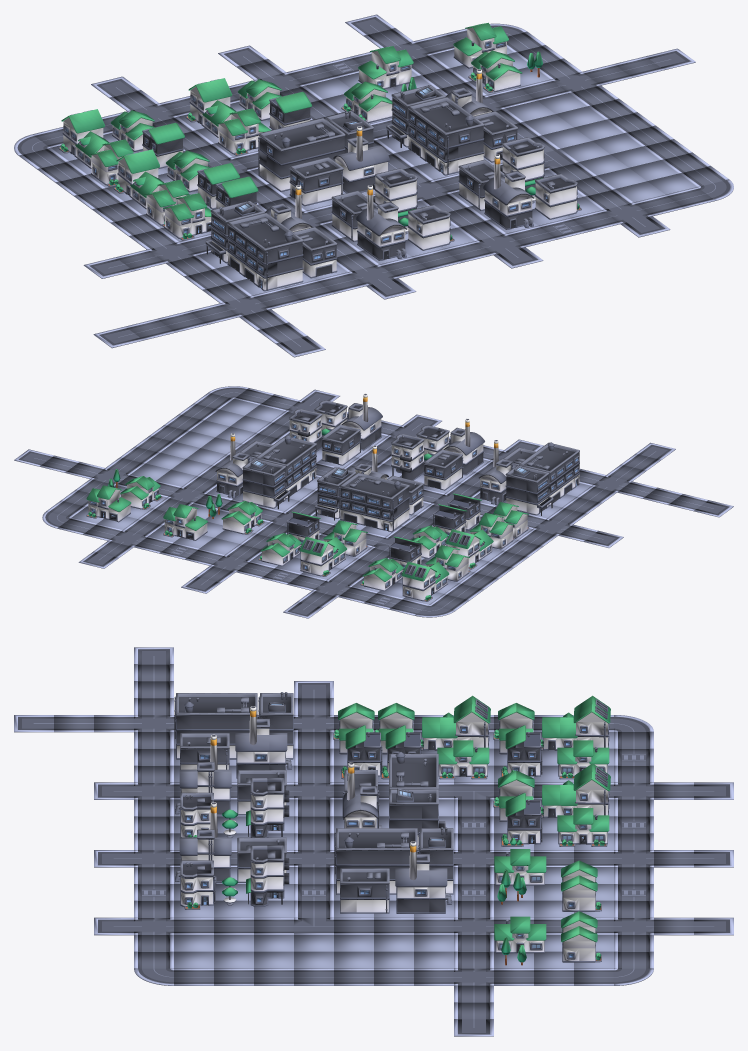
File: city_01.glb
3 renders of one model, top to bottom at view 1: azimuth 30°, elevation 25°; view 2: azimuth 150°, elevation 25°; view 3: azimuth 270°, elevation 25°, orthographic. The views are drawn at different scales.
Parts seen in each view (by area): view 1: building-a.002, building-a.001, building-a, building-n.002, building-n.003, building-n, building-o, building-type-b, building-type-b.001, building-type-b.002, building-type-c.001, building-type-c.004 (+106 smaller); view 2: building-a, building-a.002, building-a.001, building-d.001, building-d.002, building-type-b.001, building-type-b, building-b, building-o.002, building-o.003, building-d, building-type-c.001 (+91 smaller); view 3: building-a.001, building-a.002, building-n.001, building-type-b.001, building-type-b.002, building-type-b, building-n.004, building-o.001, building-b.001, building-b, building-d, building-n.003 (+133 smaller).
Part boxes in pixels (x1,y1,x2,y2): building-a.002: (227,213,303,291); building-a.001: (408,97,484,175); building-a: (258,118,345,191); building-n.002: (355,185,406,260); building-n.003: (483,154,533,229); building-n: (333,126,389,193); building-o: (289,157,343,206); building-type-b: (185,78,236,137); building-type-b.001: (58,109,109,168); building-type-b.002: (113,149,163,209); building-type-c.001: (358,46,413,88); building-type-c.004: (163,193,211,240); building-a: (340,472,409,532); building-a.002: (519,442,579,505); building-a.001: (255,435,316,498); building-d.001: (242,458,290,509); building-d.002: (505,465,553,515); building-type-b.001: (401,561,449,601); building-type-b: (299,536,346,576); building-b: (391,434,424,480); building-o.002: (423,449,463,490); building-o.003: (321,424,361,465); building-d: (315,467,355,520); building-type-c.001: (163,504,207,540); building-a.001: (334,828,417,894); building-a.002: (174,693,257,759); building-n.001: (395,841,451,913); building-type-b.001: (541,695,610,750); building-type-b.002: (421,695,490,750); building-type-b: (541,763,610,817); building-n.004: (235,706,291,778); building-o.001: (340,868,389,913); building-b.001: (250,845,289,906); building-b: (250,778,289,837); building-d: (389,788,445,848); building-n.003: (175,802,231,884).
Size of the model in its own units: 23 by 1.9 by 18.
29 materials, 29 textured.
